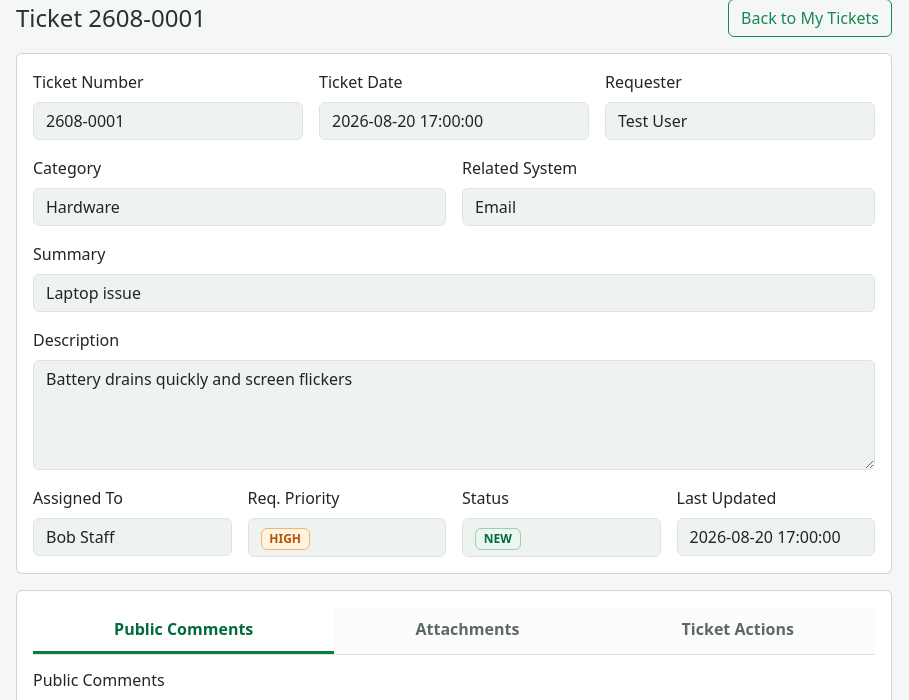
Test case: RequesterTicketDetail communication additions (Lab 3 Issue #49, UI-06) › Public Comments tab shows the timeline, compact composer, and posts within 200 chars
Click the tab "Public Comments" at (184, 631), box [33,607,334,654]
(page scrolled)
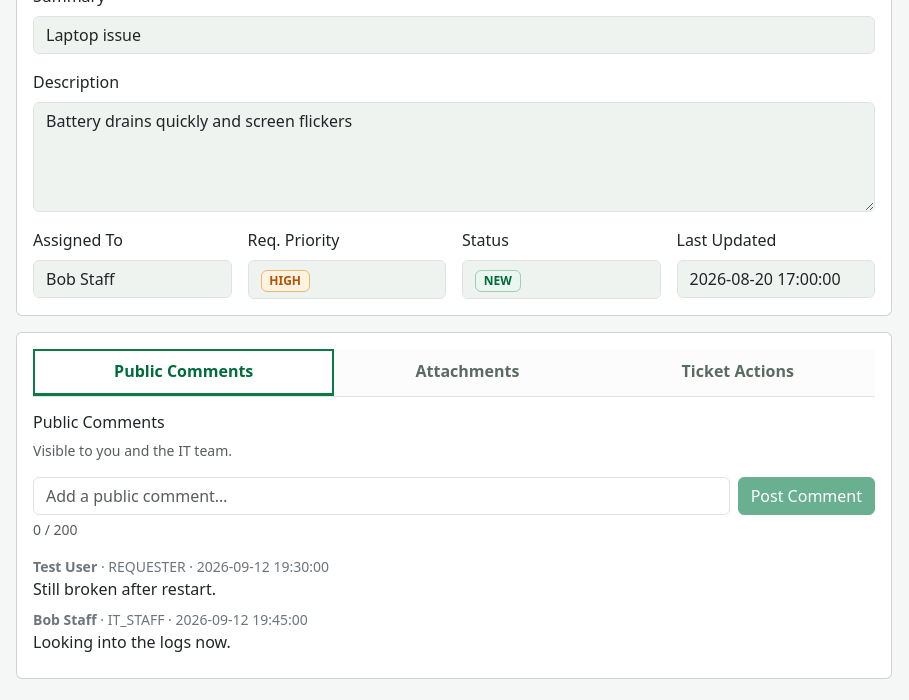
expect the text "Still broken after restart." is shown: met, box [33,578,216,600]
expect the text "Looking into the logs now." is shown: met, box [33,631,231,653]
Type "Any update from IT?" into the field with placeholder "Add a public comment…" at (381, 496), box [33,477,730,515]
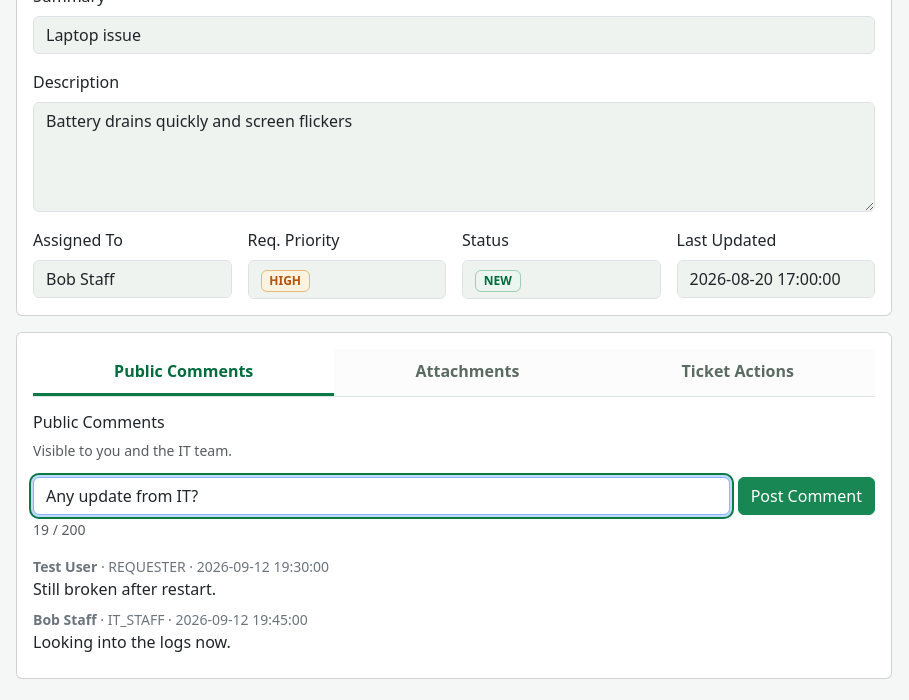
expect the text "19 / 200" is shown: met, box [33,520,86,539]
Click the button "Post Comment" at (806, 496), box [738,477,875,515]
(page scrolled)
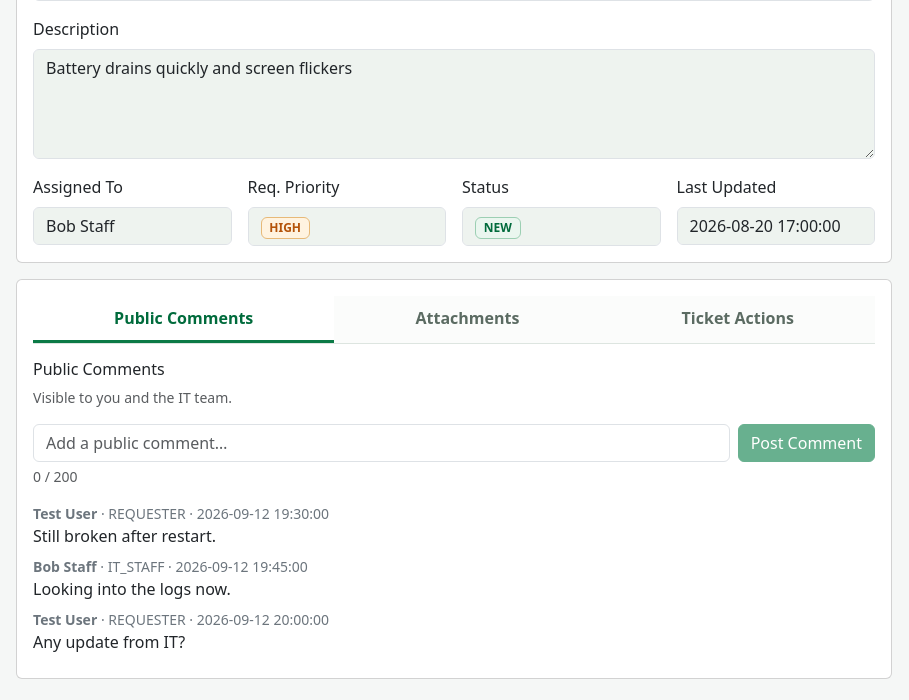
expect the text "Any update from IT?" is shown: met, box [33,631,185,653]
